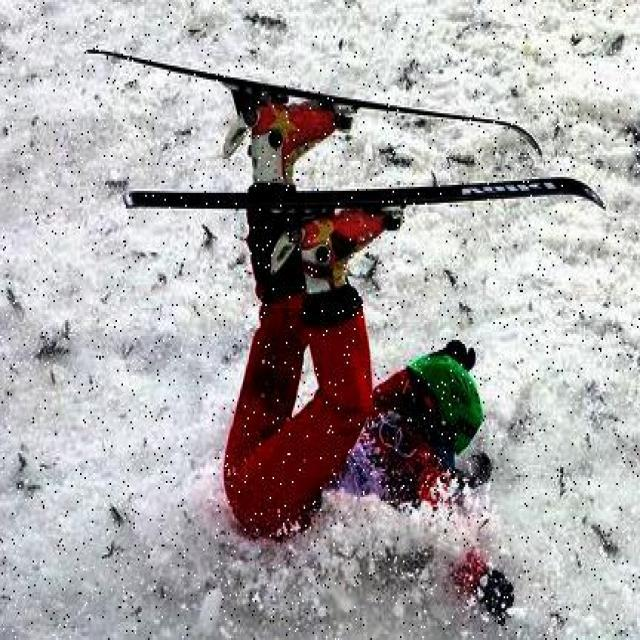fall: (237, 245, 511, 602)
